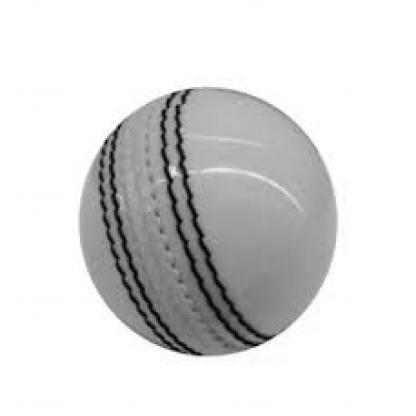bukan telur: (73, 83, 338, 360)
